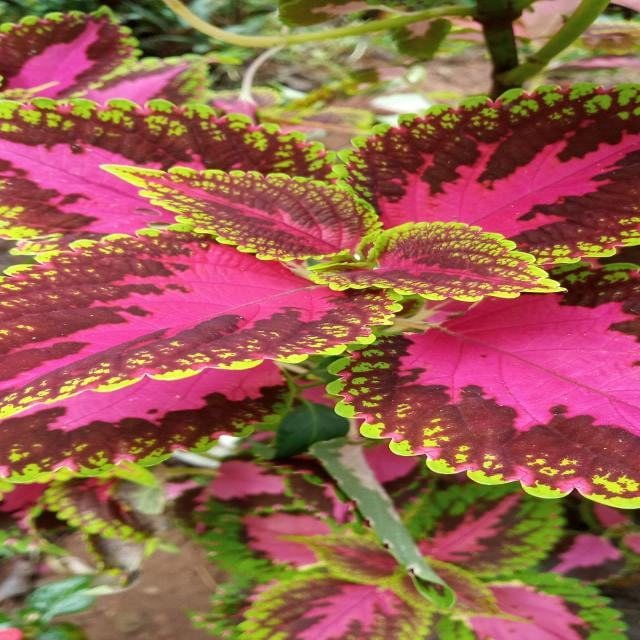Coleus: (2, 85, 639, 518)
